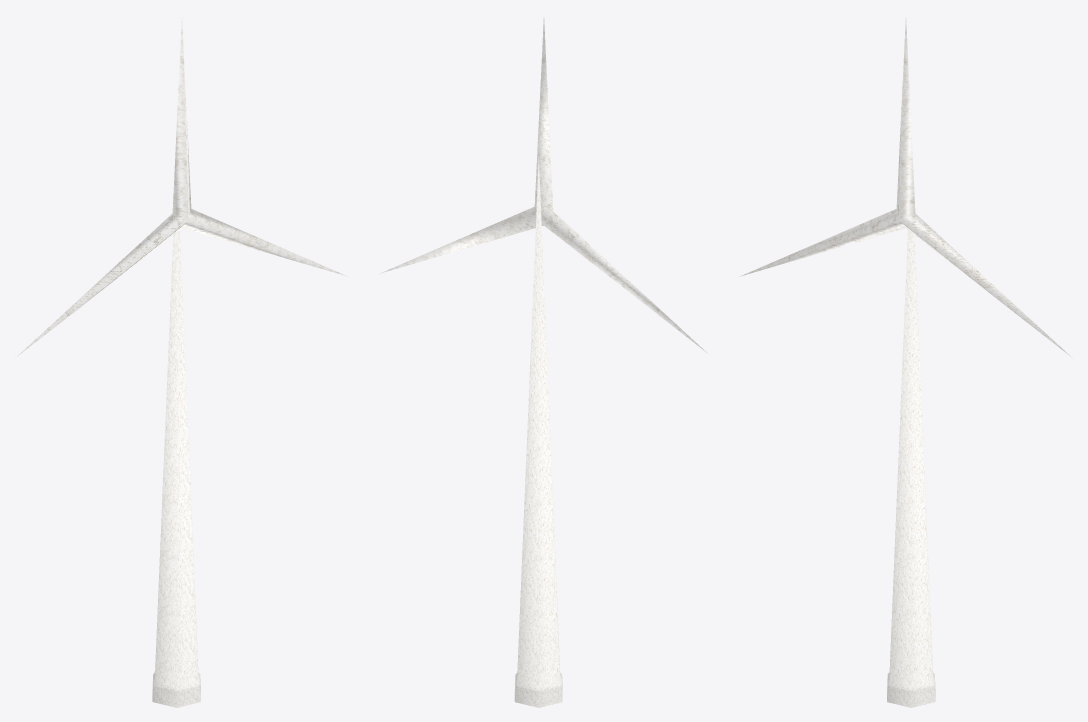
Rendered from wuhu-windmill.glb.
3 views of the same model, side by side, from view 1: azimuth 30°, elevation 25°; view 2: azimuth 150°, elevation 25°; view 3: azimuth 330°, elevation 25° (orthographic).
Parts seen in each view (by area): view 1: polygon0, polygon1; view 2: polygon0, polygon1; view 3: polygon0, polygon1.
Part boxes in pixels (left/top/right/bottom): polygon0: left=152, top=230, right=200, bottom=707; polygon1: left=17, top=17, right=348, bottom=356; polygon0: left=514, top=157, right=562, bottom=707; polygon1: left=379, top=17, right=707, bottom=353; polygon0: left=887, top=230, right=935, bottom=707; polygon1: left=739, top=17, right=1070, bottom=356.
Bounding box in the file's own units: 360 × 704 × 45.19.
1 material, 1 textured.
